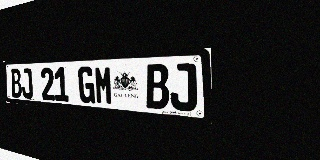1: (53, 67, 69, 102)
2: (40, 67, 55, 101)
B: (145, 64, 170, 110), (10, 68, 22, 98)
G: (78, 66, 95, 104)
J: (170, 63, 197, 112), (20, 68, 33, 99)
M: (94, 65, 113, 105)
